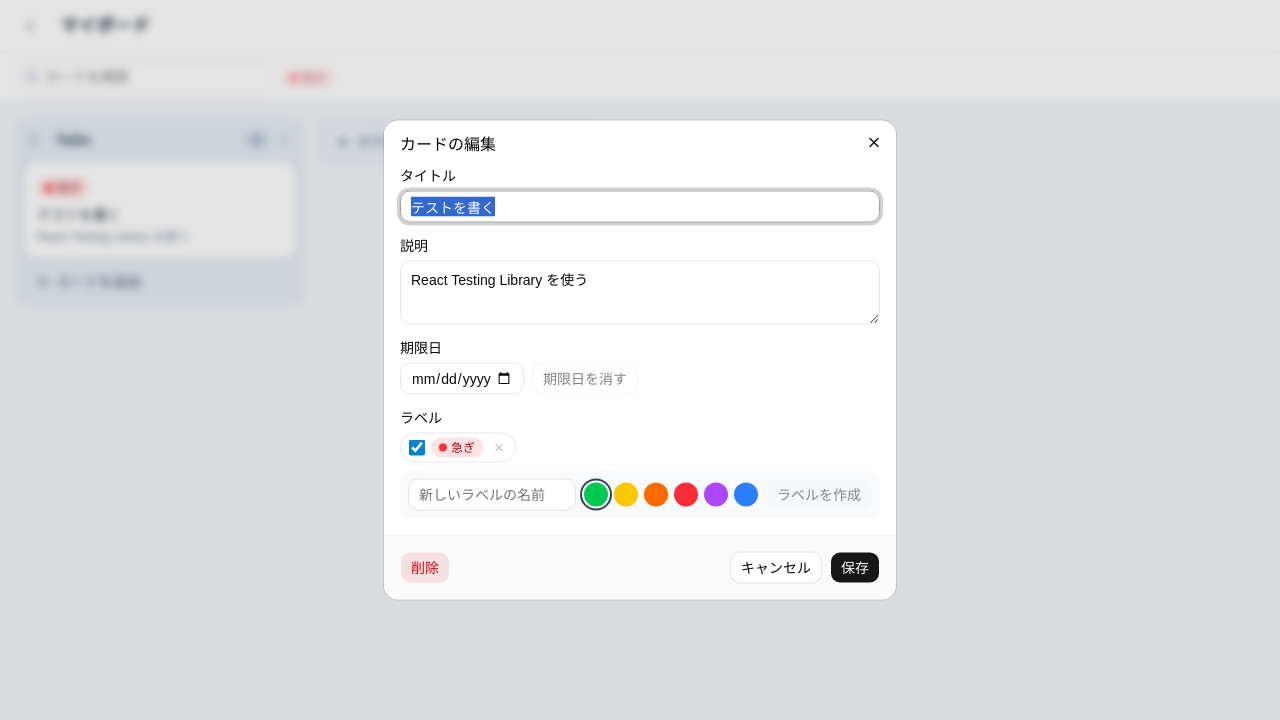
カード詳細のラベル › ラベルを削除すると、確認したあとで一覧と付けていたカードから消える
The width and height of the screenshot is (1280, 720).
Check: the dialog "カードの編集" is shown, box [384,120,896,600]
Click the button named "ラベル「急ぎ」を削除".
click(499, 448)  # box [487,436,511,460]
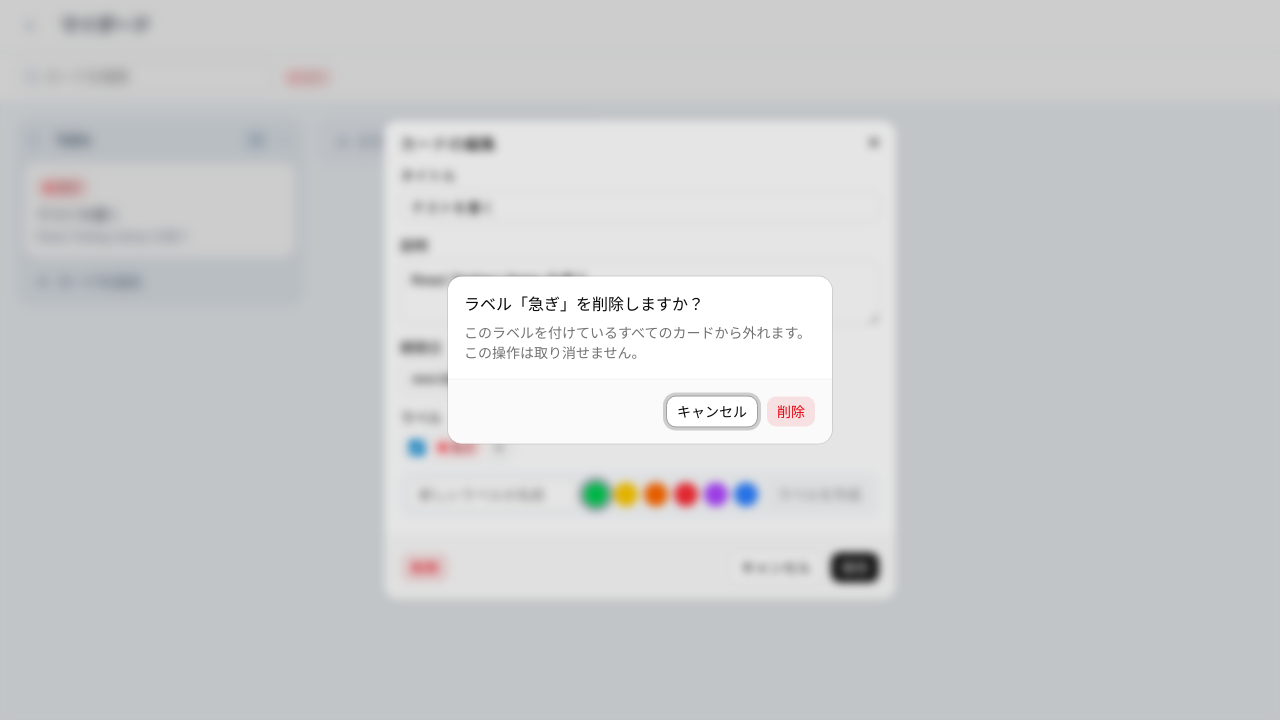
Click the button "削除".
click(791, 412)  # box [766,396,816,428]
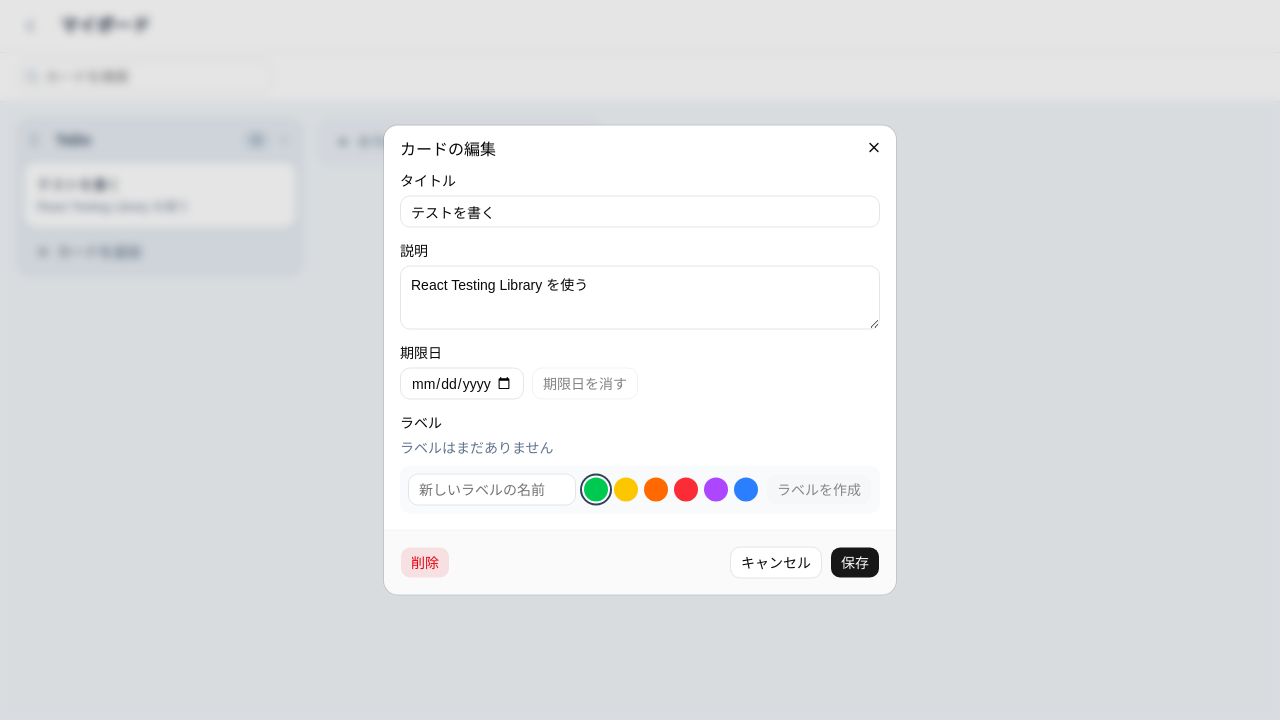
Check: the button "急ぎ" is gone
Check: the text "ラベルはまだありません" is shown, box [400,440,554,456]
